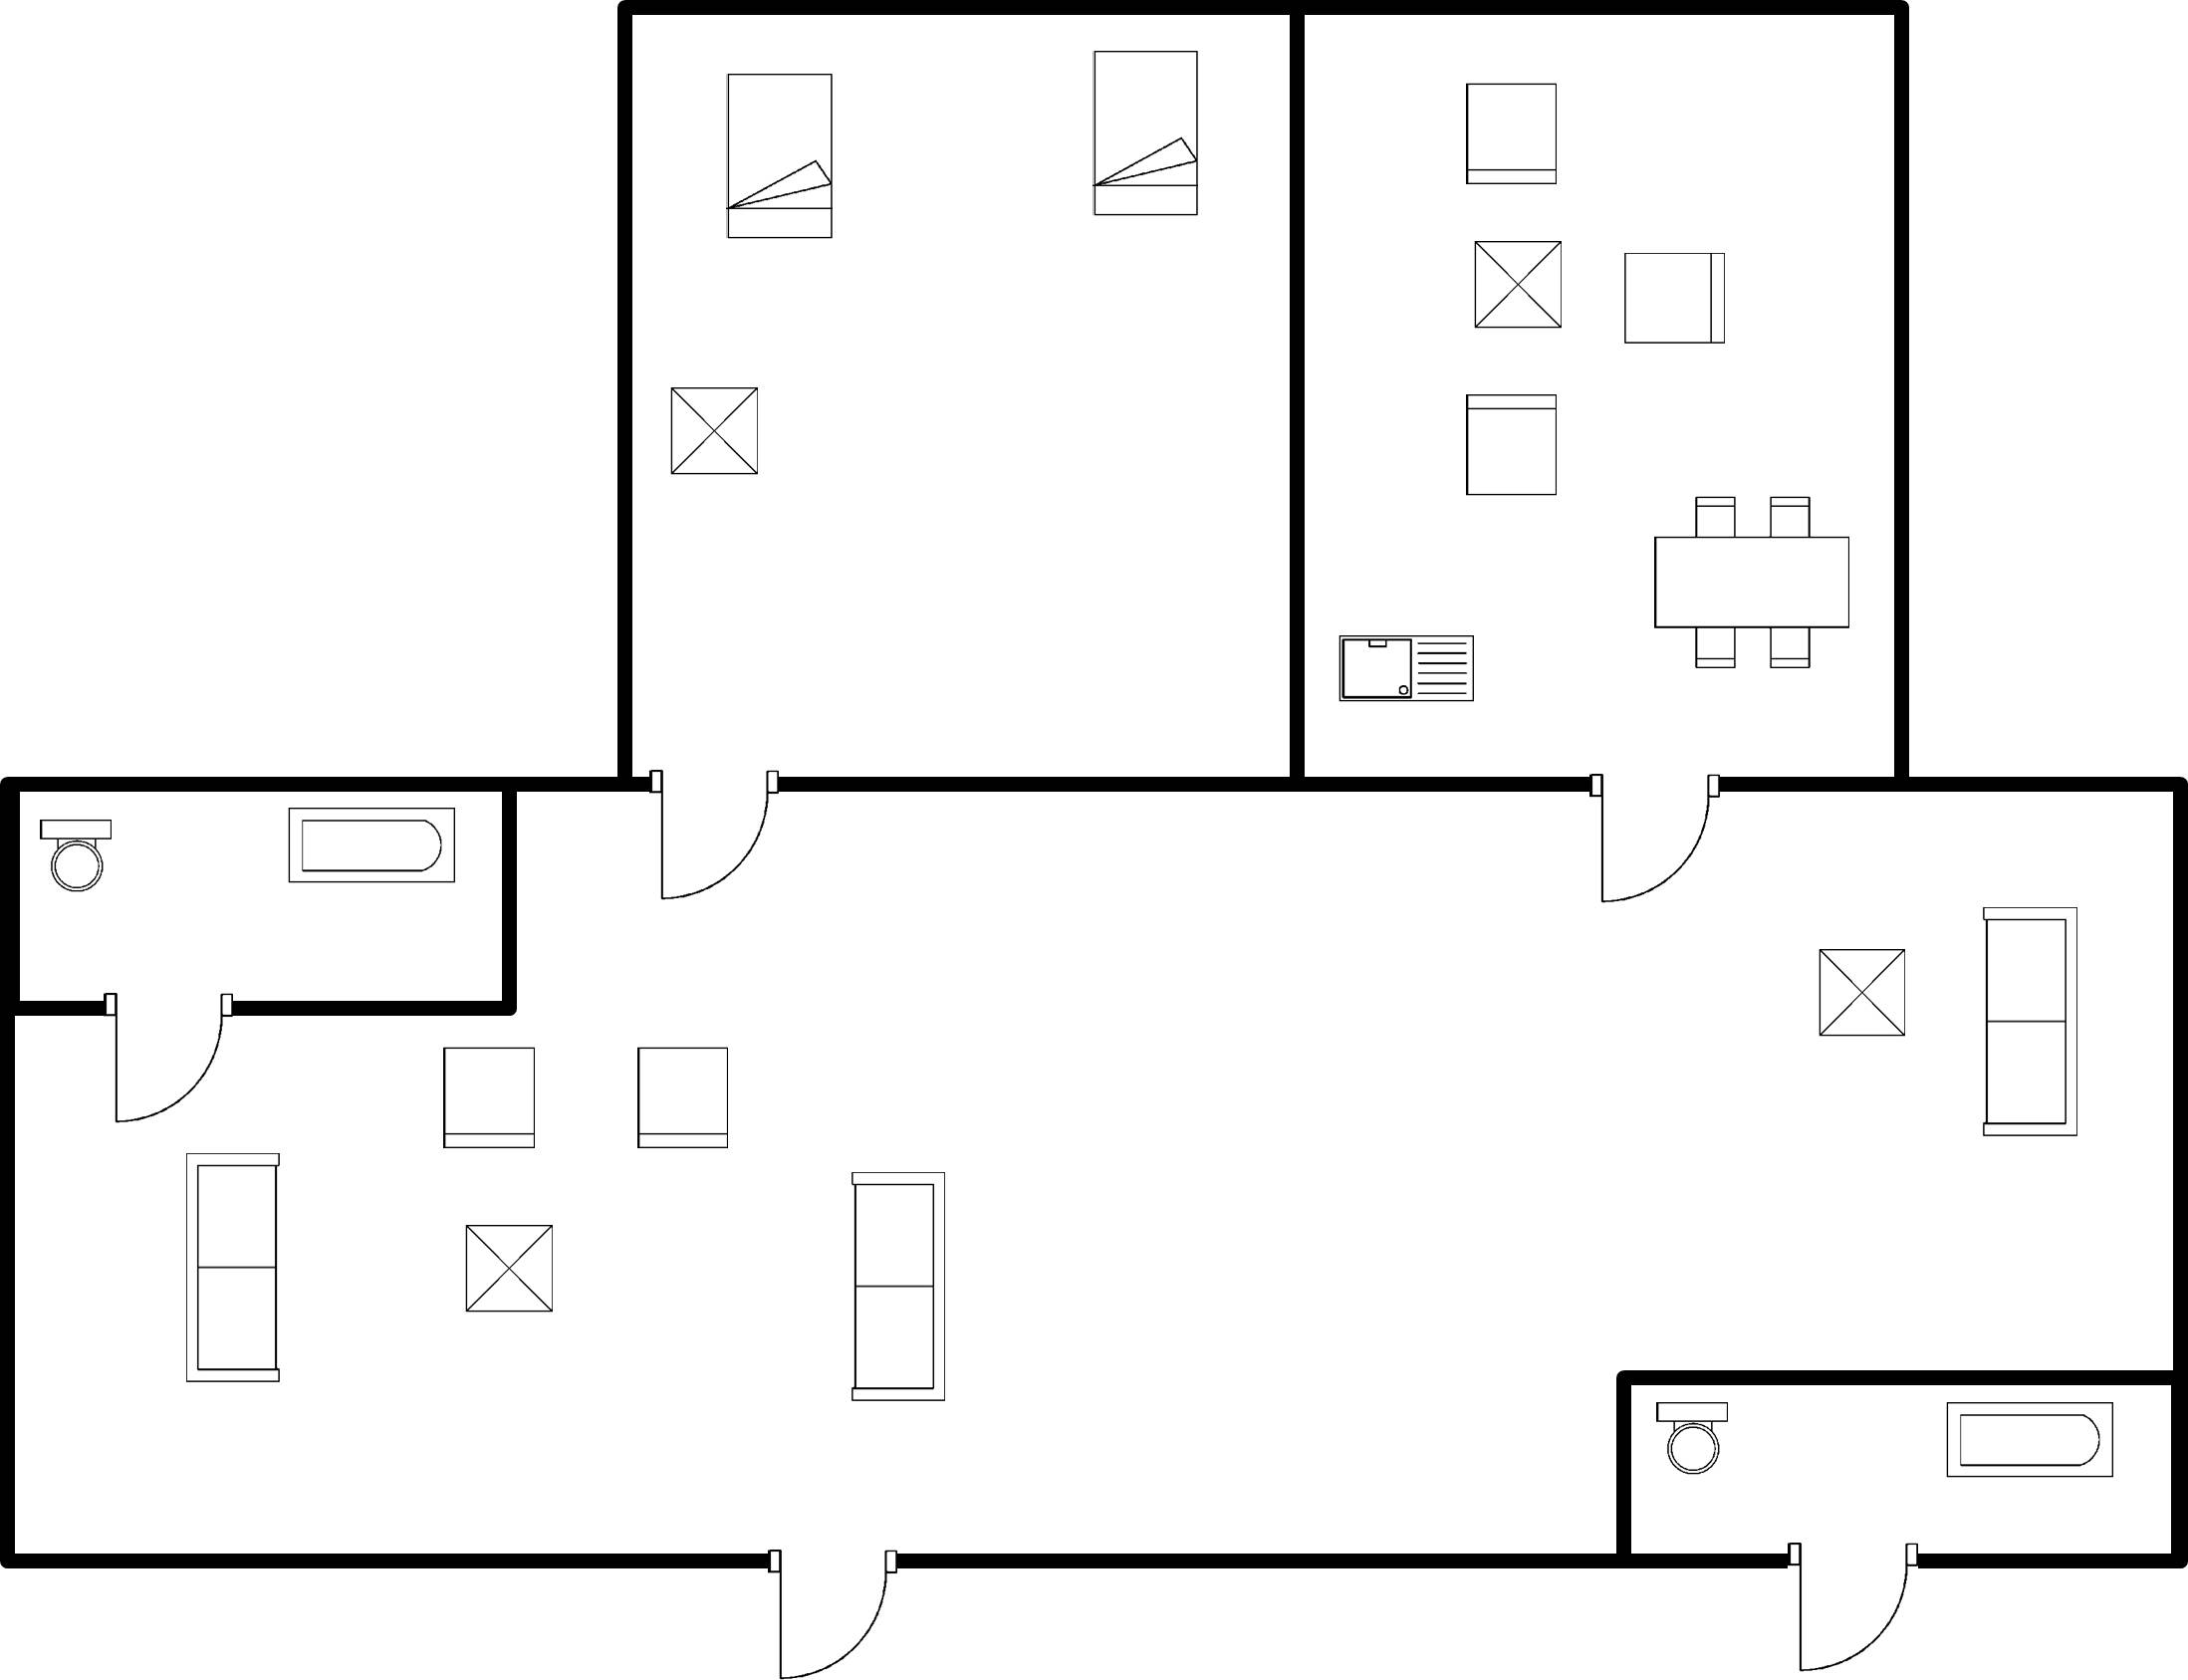bed: (712, 63, 847, 247), (1082, 41, 1207, 226)
coffee_table: (655, 377, 768, 487), (453, 1215, 564, 1324), (1467, 230, 1573, 342), (1810, 939, 1916, 1050)
dining_table: (1646, 480, 1858, 681)
large_sink: (27, 807, 136, 901), (1646, 1393, 1740, 1484)
large_sofa: (1968, 900, 2090, 1151), (842, 1162, 957, 1419), (172, 1144, 288, 1393)
sink: (1328, 620, 1486, 724)
small_sofa: (627, 1036, 748, 1161), (433, 1034, 546, 1164), (1457, 72, 1570, 199), (1613, 240, 1735, 357), (1457, 384, 1568, 506)
tub: (278, 799, 469, 896), (1937, 1391, 2126, 1488)
